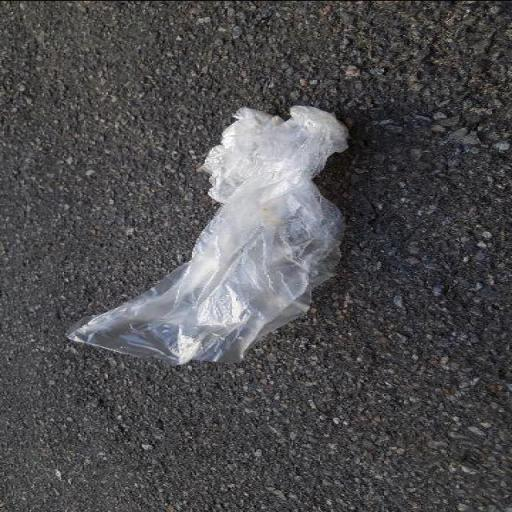plastic-bag: (67, 102, 357, 368)
